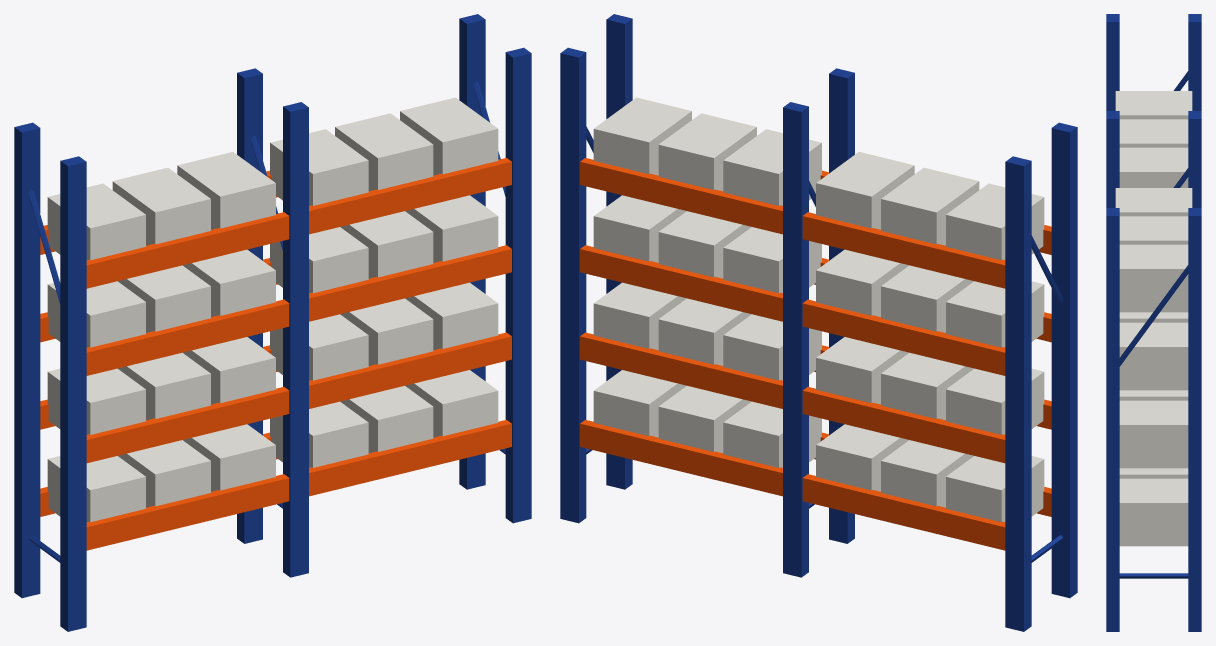
The model's file is police.store.evidence_shelving.glb.
The picture shows the model from 3 angles, left to right: view 1: azimuth 30°, elevation 25°; view 2: azimuth 150°, elevation 25°; view 3: azimuth 270°, elevation 25°; orthographic projection. The views are drawn at different scales.
Parts seen in each view (by area): view 1: main__fabric_white, main__plastic_blue, main__hivis_orange; view 2: main__fabric_white, main__plastic_blue, main__hivis_orange; view 3: main__fabric_white, main__plastic_blue.
Boxes of the visible parts, box(x1,y1,x2,y2) form: main__fabric_white: box(47, 97, 498, 522); main__plastic_blue: box(14, 14, 531, 631); main__hivis_orange: box(40, 158, 511, 550); main__fabric_white: box(593, 97, 1044, 522); main__plastic_blue: box(560, 14, 1077, 631); main__hivis_orange: box(580, 158, 1051, 550); main__fabric_white: box(1115, 91, 1192, 546); main__plastic_blue: box(1106, 14, 1201, 631).
Bounding box in the file's own units: 2.5 × 2.4 × 0.5.
